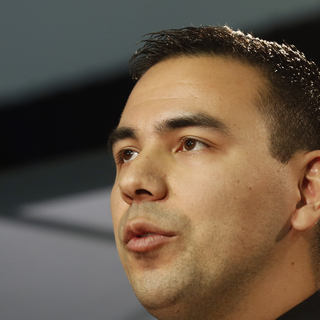eye: (166, 133, 215, 157), (114, 144, 146, 169)
